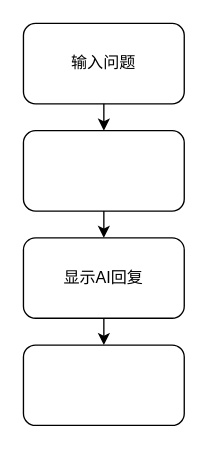
Image size: 208x449. Some labels were removed from this diagram. The box of each missing label's shape, as (x1, y1, x2, y2) in pixels:
用户继续提问 或结束对话: (22, 344, 184, 425)
系统处理请求 显示加载: (22, 129, 184, 211)
